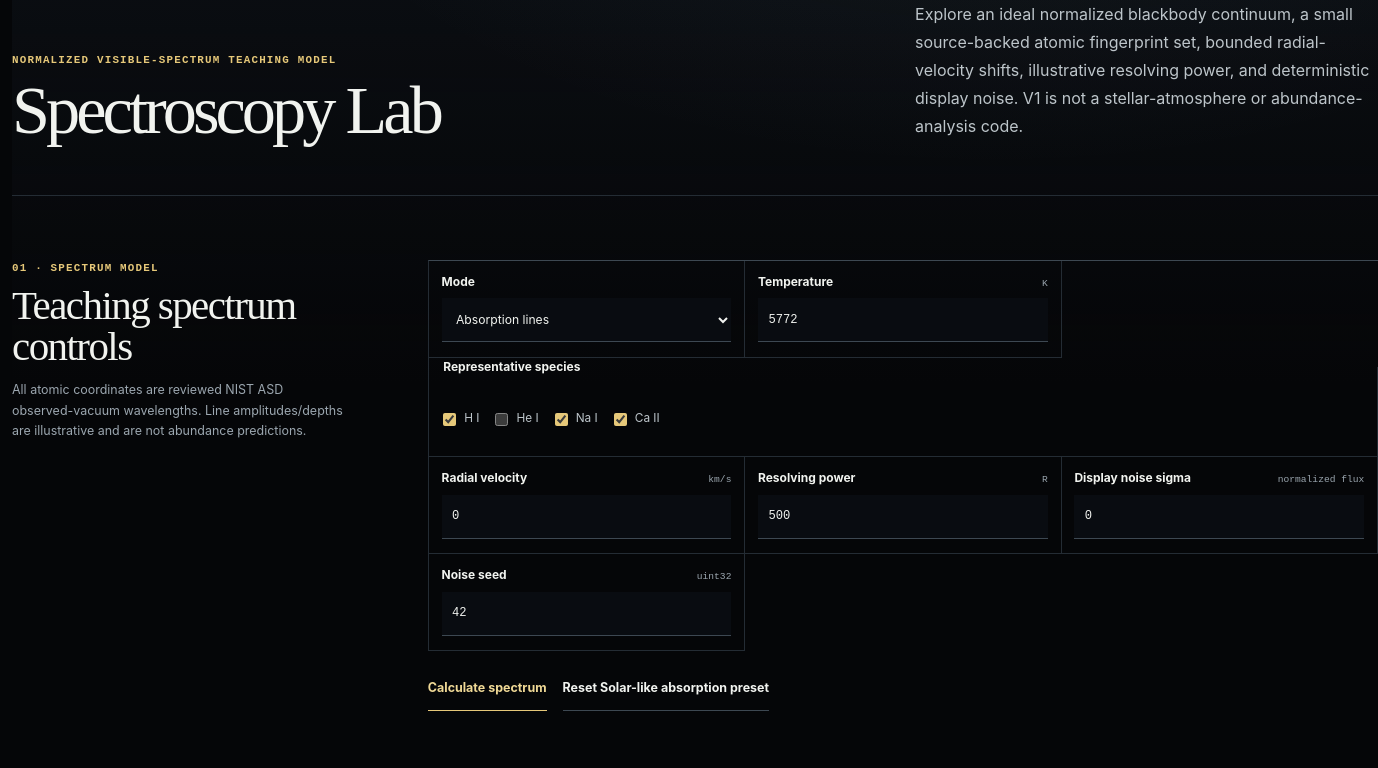
Test case: SpectroscopyLabView › rejects invalid drafts locally without an API request
The image size is (1378, 768).
Clear the number field labelled "Temperature K": (903, 320) [758,298,1048,342]
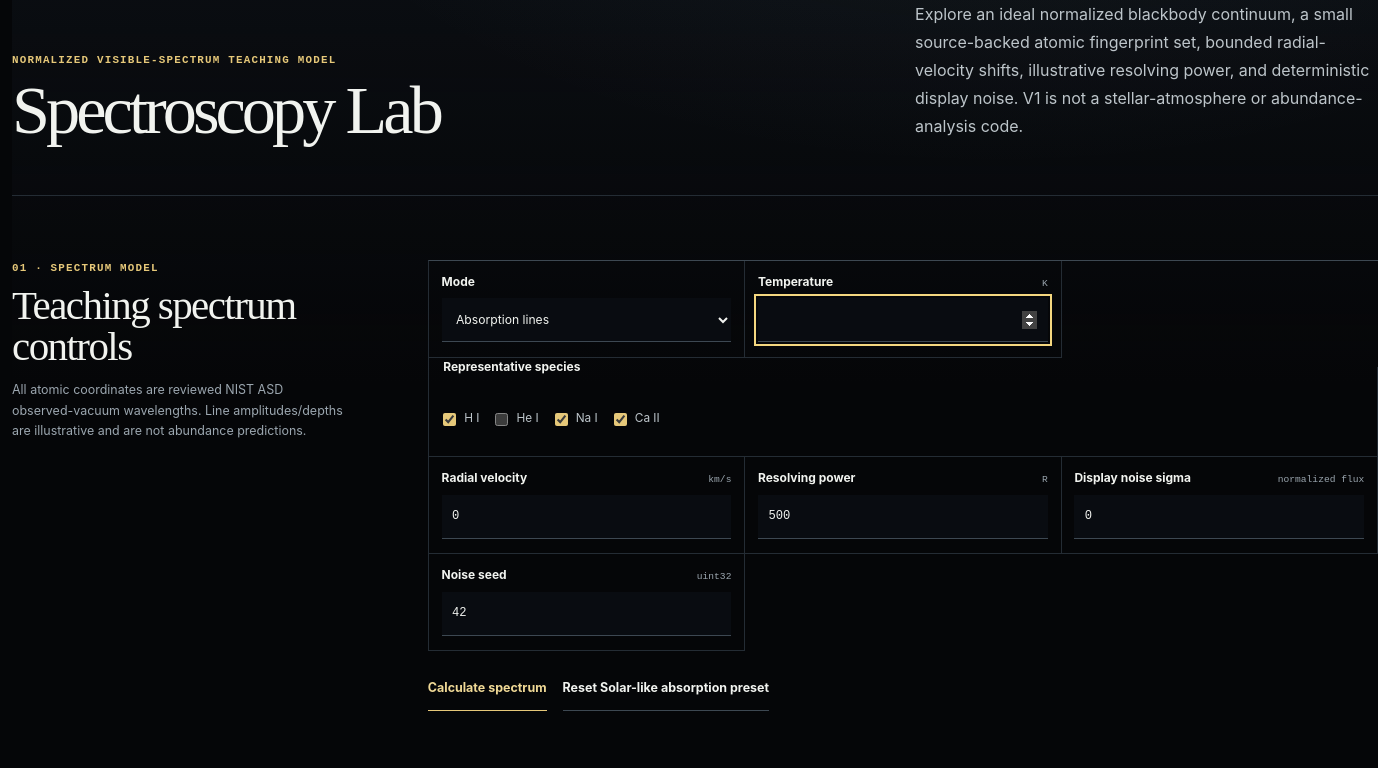
Click the button "Calculate spectrum": click(487, 689) [428,667,547,711]
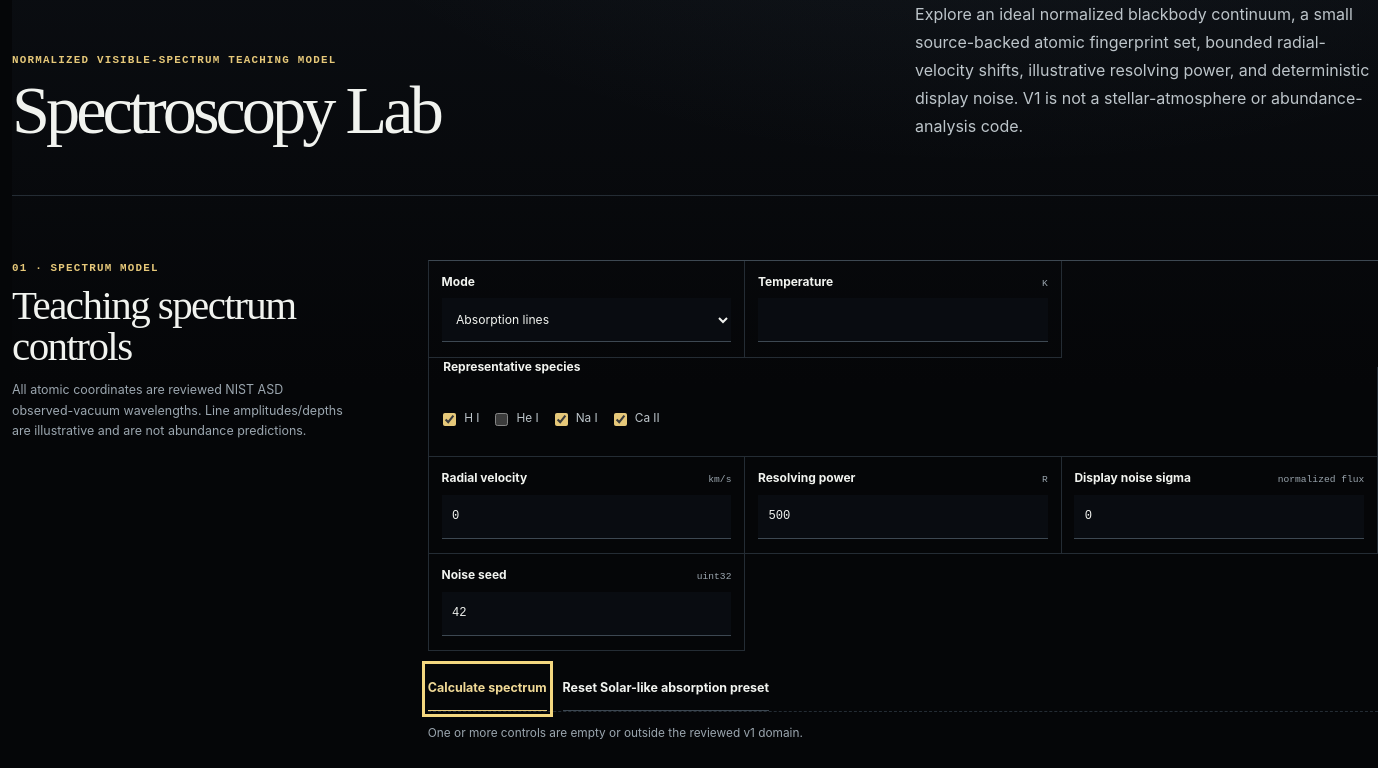
expect the text "One or more controls are empty or outside the reviewed v1 domain." is shown: met, box [428,711,1377,742]
